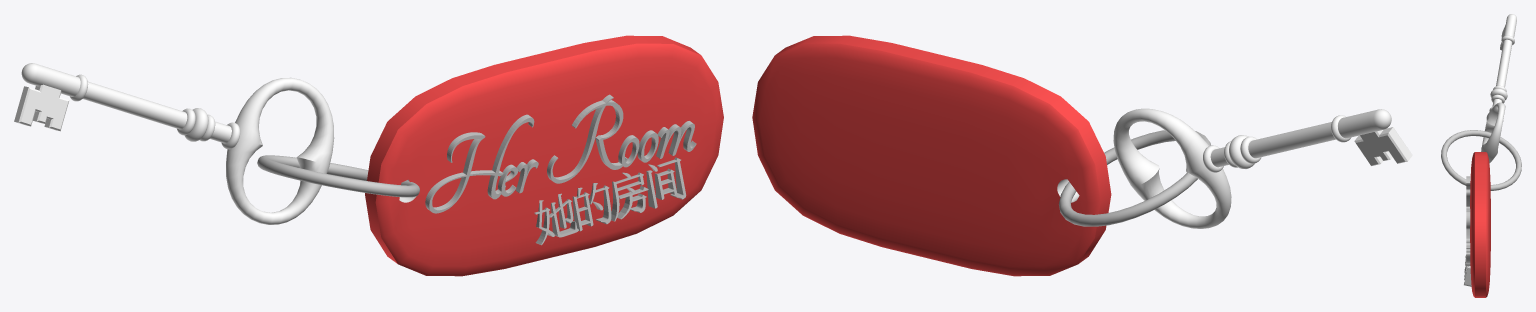
The model's file is Irene_Yang_3D.obj.
3 renders of one model, left to right at view 1: azimuth 30°, elevation 25°; view 2: azimuth 150°, elevation 25°; view 3: azimuth 270°, elevation 25°, orthographic. The views are drawn at different scales.
Visible parts, largest first — view 1: Cube, Default, Torus, 000_3D_Text_-_H, 003_3D_Text_-_R, 003_3D_Text_1_-_?, 000_3D_Text_1_-_?, 002_3D_Text_1_-_?, 001_3D_Text_1_-_?, 006_3D_Text_-_m; view 2: Cube, Default, Torus; view 3: Cube, Default, Torus, 000_3D_Text_-_H, 003_3D_Text_-_R, 003_3D_Text_1_-_?, 006_3D_Text_-_m.
Part boxes in pixels (bbox=[...]): Cube: bbox=[365, 35, 723, 276]; Default: bbox=[14, 63, 334, 224]; Torus: bbox=[257, 155, 419, 197]; 000_3D_Text_-_H: bbox=[425, 114, 534, 213]; 003_3D_Text_-_R: bbox=[547, 94, 627, 183]; 003_3D_Text_1_-_?: bbox=[646, 157, 686, 208]; 000_3D_Text_1_-_?: bbox=[534, 193, 578, 245]; 002_3D_Text_1_-_?: bbox=[611, 172, 648, 221]; 001_3D_Text_1_-_?: bbox=[572, 183, 611, 231]; 006_3D_Text_-_m: bbox=[656, 121, 696, 158]; Cube: bbox=[752, 35, 1111, 276]; Default: bbox=[1113, 108, 1412, 228]; Torus: bbox=[1059, 130, 1211, 226]; Cube: bbox=[1470, 152, 1490, 297]; Default: bbox=[1481, 14, 1516, 163]; Torus: bbox=[1441, 130, 1521, 190]; 000_3D_Text_-_H: bbox=[1466, 176, 1470, 208]; 003_3D_Text_-_R: bbox=[1466, 208, 1470, 238]; 003_3D_Text_1_-_?: bbox=[1464, 266, 1471, 286]; 006_3D_Text_-_m: bbox=[1466, 246, 1470, 265].
Size of the model in its own units: 490 by 197 by 101.
